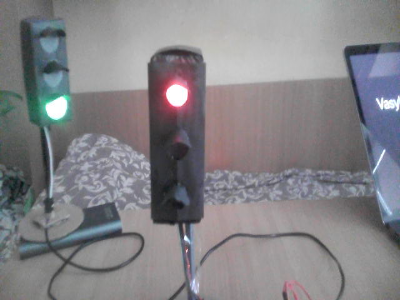trafficlight_green: (31, 23, 72, 124)
trafficlight_red: (150, 53, 203, 220)
